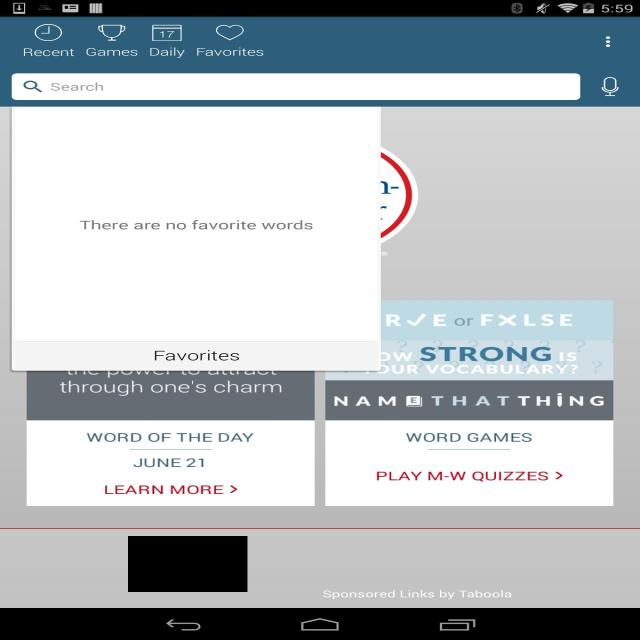button: (27, 299, 316, 505), (326, 299, 612, 505), (195, 22, 268, 62), (81, 21, 142, 61), (19, 22, 81, 60), (143, 21, 194, 61), (17, 78, 46, 95), (602, 74, 622, 98), (598, 33, 620, 51)
field: (13, 73, 579, 100)
heading: (150, 346, 245, 366)
iframe: (1, 529, 640, 608)
image: (328, 300, 612, 420)
label: (46, 81, 105, 95)
link: (373, 469, 568, 485), (103, 482, 240, 497)
text: (84, 428, 257, 469), (328, 394, 608, 409), (80, 217, 315, 234), (402, 431, 534, 448)
